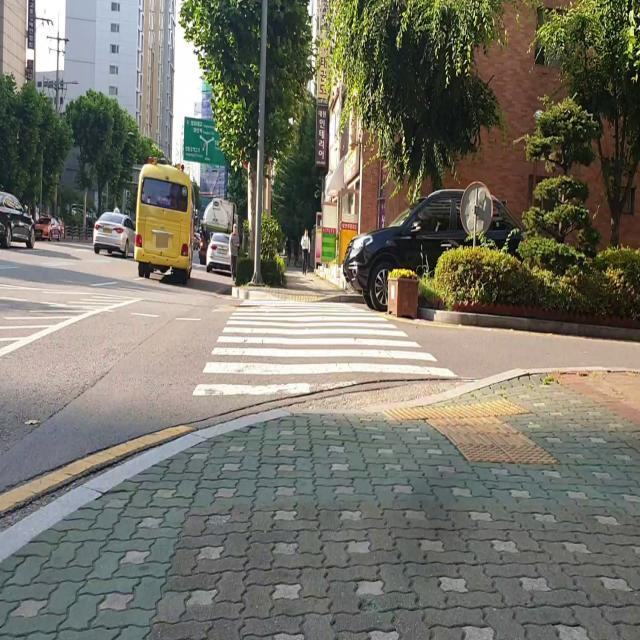횡단보도: (191, 296, 459, 399)
